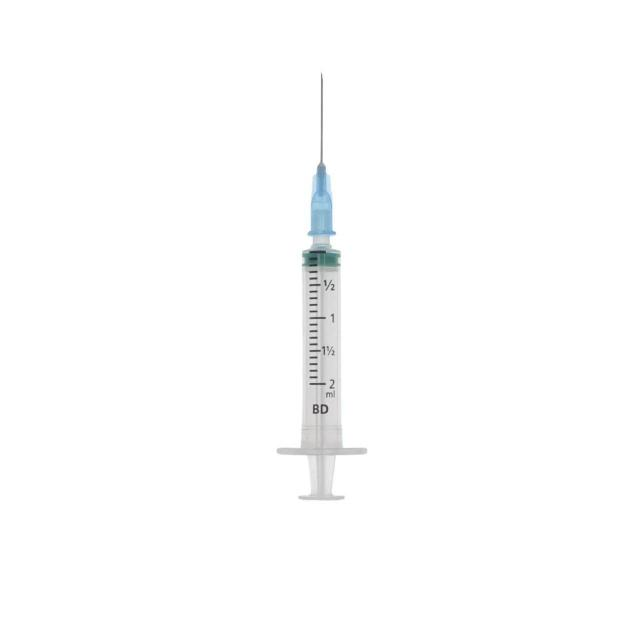syringe: (276, 70, 368, 501)
